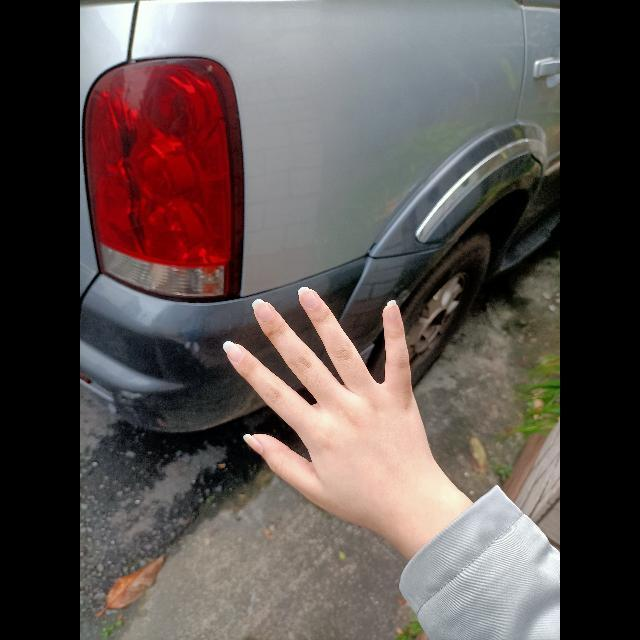bare_hand: (221, 281, 439, 516)
